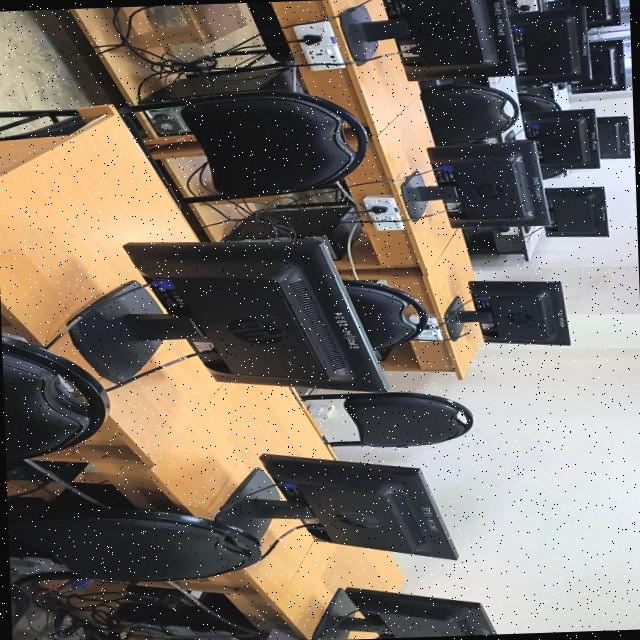Chair: (176, 90, 366, 198), (7, 502, 259, 582), (0, 334, 108, 461), (300, 392, 472, 447), (344, 280, 425, 359), (420, 84, 515, 145)
Cpu: (263, 198, 361, 260), (146, 68, 302, 101), (143, 108, 187, 136), (226, 222, 267, 239)
Monitor: (60, 239, 385, 391), (259, 454, 457, 559), (401, 141, 548, 228), (310, 587, 496, 640), (385, 0, 495, 78), (444, 281, 569, 344), (523, 110, 599, 170), (544, 187, 607, 237), (570, 39, 626, 94), (564, 0, 620, 29), (597, 116, 629, 158)
